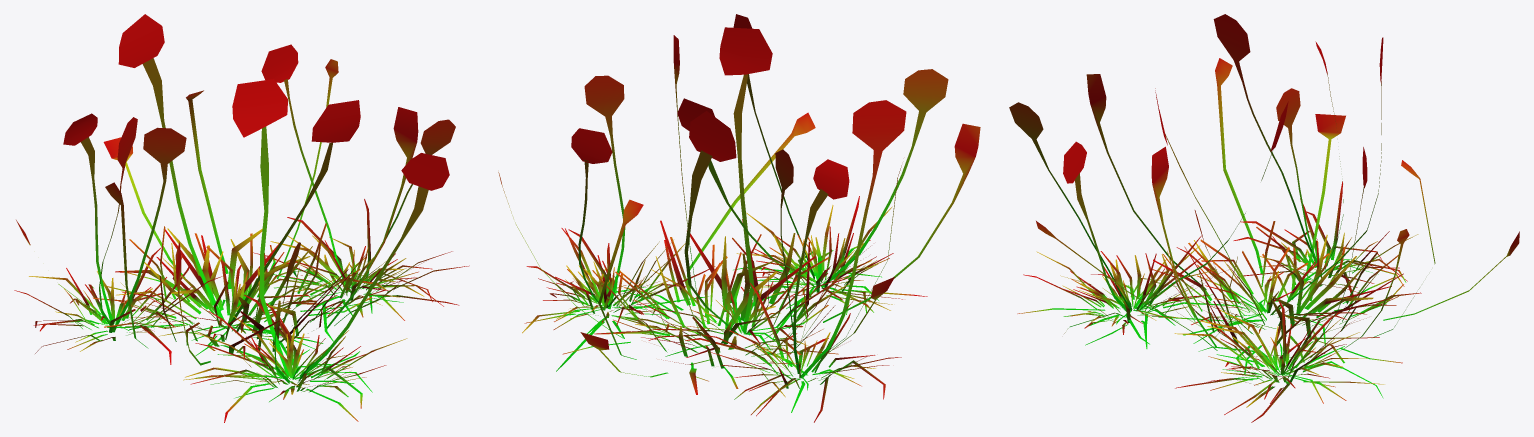
File: Var1_LOD3.fbx
The picture shows the model from 3 angles, left to right: view 1: azimuth 30°, elevation 25°; view 2: azimuth 150°, elevation 25°; view 3: azimuth 270°, elevation 25°; orthographic projection. The views are drawn at different scales.
Visible parts, largest first — view 1: _mrm1_Var1_LOD3; view 2: _mrm1_Var1_LOD3; view 3: _mrm1_Var1_LOD3.
Boxes of the visible parts, x1,y1,x2,y2 form: _mrm1_Var1_LOD3: [14, 14, 469, 422]; _mrm1_Var1_LOD3: [498, 14, 980, 422]; _mrm1_Var1_LOD3: [1009, 14, 1519, 422].
Size of the model in its own units: 30.48 by 22.47 by 35.84.
